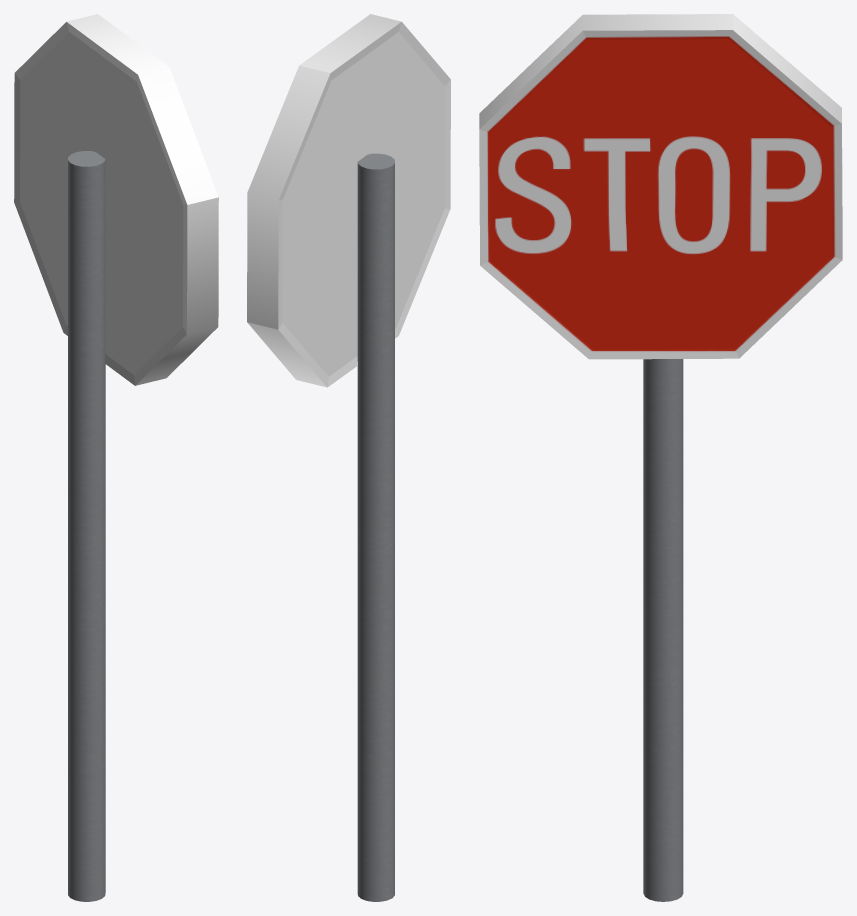
The model's file is stop sign.fbx.
The picture shows the model from 3 angles, left to right: view 1: azimuth 30°, elevation 25°; view 2: azimuth 150°, elevation 25°; view 3: azimuth 270°, elevation 25°; orthographic projection. The views are drawn at different scales.
Parts seen in each view (by area): view 1: pCylinder11; view 2: pCylinder11; view 3: pCylinder11.
Boxes of the visible parts, x1,y1,x2,y2 form: pCylinder11: (14, 14, 218, 901); pCylinder11: (247, 14, 450, 901); pCylinder11: (479, 14, 842, 901).
Size of the model in its own units: 18.7 by 248 by 92.29.
1 material, 1 textured.
